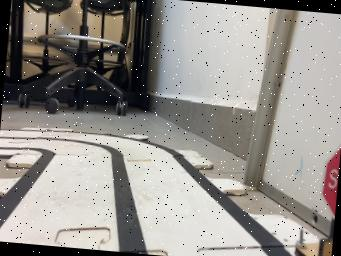stop: (294, 146, 340, 256), (294, 146, 340, 256), (294, 146, 340, 256)
street: (0, 130, 291, 256), (0, 130, 291, 256), (0, 130, 291, 256)
